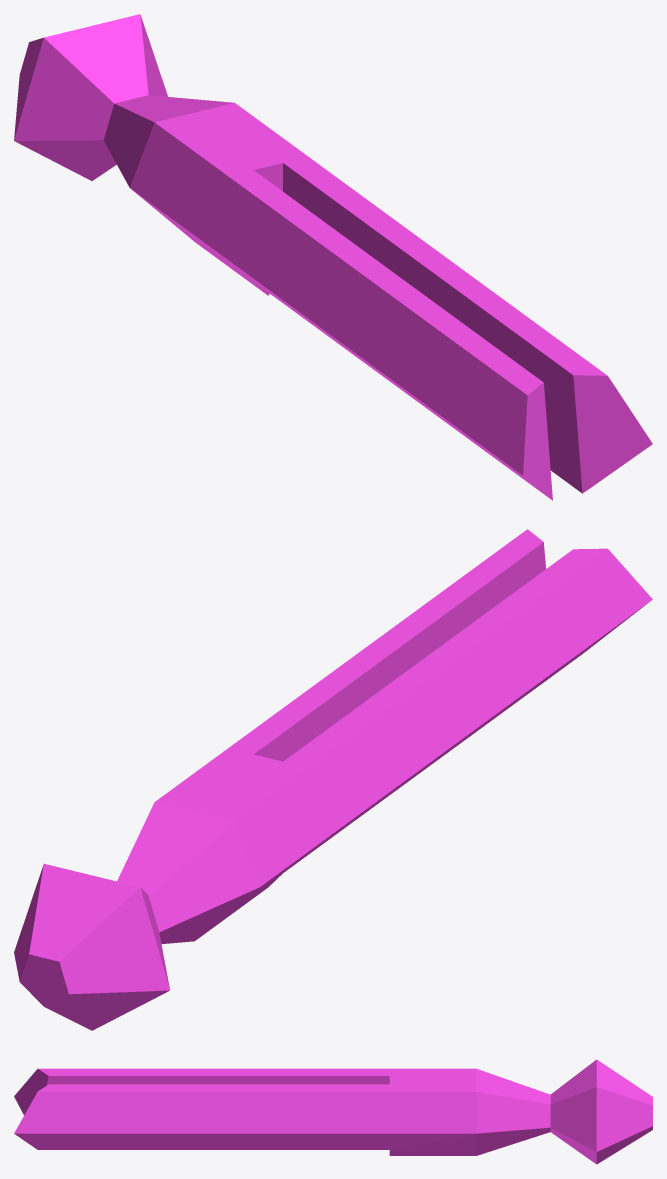
The model's file is SM_Clothespin_Fantasy.fbx.
The picture shows the model from 3 angles, top to bottom: view 1: azimuth 30°, elevation 25°; view 2: azimuth 150°, elevation 25°; view 3: azimuth 270°, elevation 25°; orthographic projection. The views are drawn at different scales.
Parts seen in each view (by area): view 1: SM_Clothespin_Fantasy; view 2: SM_Clothespin_Fantasy; view 3: SM_Clothespin_Fantasy.
Part boxes in pixels (<box>): SM_Clothespin_Fantasy: <box>14,14,652,500</box>; SM_Clothespin_Fantasy: <box>14,529,652,1030</box>; SM_Clothespin_Fantasy: <box>14,1059,652,1164</box>.
Bounding box in the file's own units: 0.0381 × 0.0363 × 0.2298.
